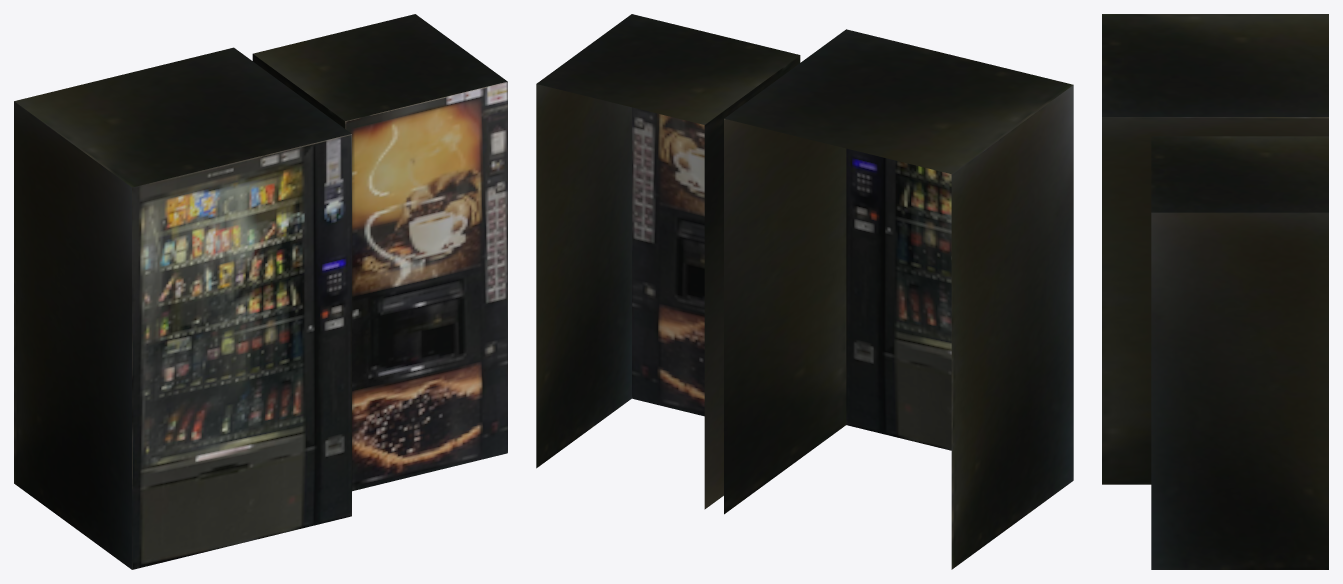
Rendered from automatak.fbx.
3 renders of one model, left to right at view 1: azimuth 30°, elevation 25°; view 2: azimuth 150°, elevation 25°; view 3: azimuth 270°, elevation 25°, orthographic. The views are drawn at different scales.
Parts seen in each view (by area): view 1: Cube.003; view 2: Cube.003; view 3: Cube.003.
Part boxes in pixels (x1,y1,x2,y2): Cube.003: [14, 14, 507, 569]; Cube.003: [536, 14, 1073, 569]; Cube.003: [1102, 14, 1328, 569].
Bounding box in the file's own units: 201 × 183 × 102.
Materials: 1 (1 with a texture image).
